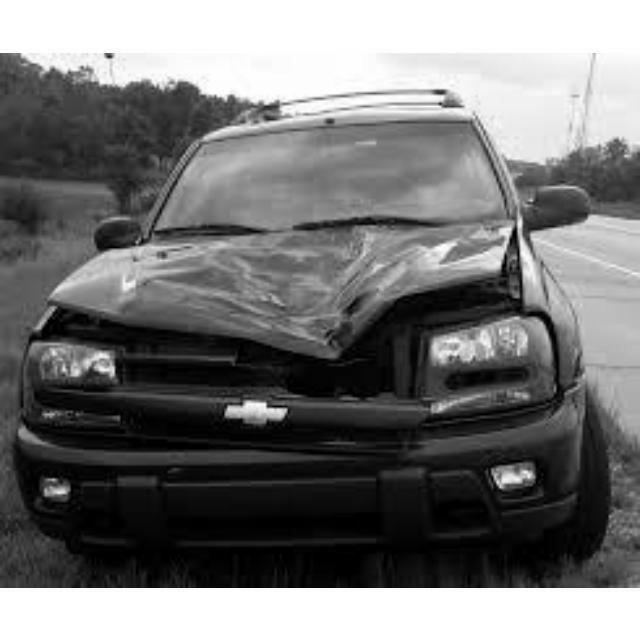bonnet-dent: (37, 228, 543, 369)
